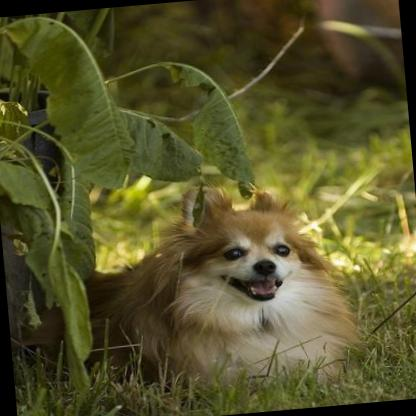Pomeranian: (99, 167, 361, 396)
